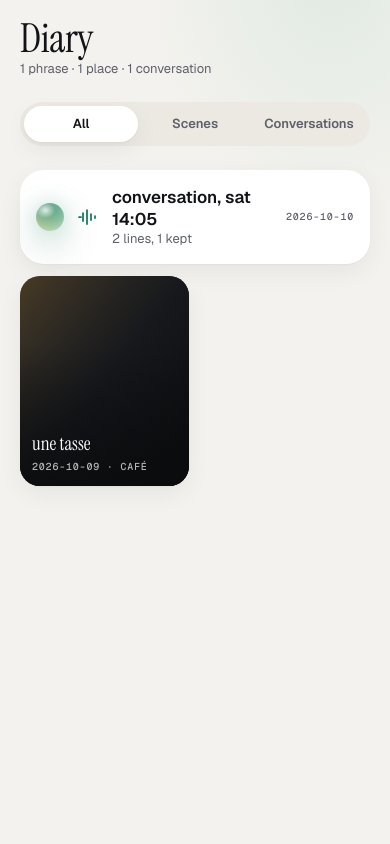
Test case: Diary › renders a conversation row interleaved by date and expands its lines
Expected: the text "Oui, à midi." is not shown
Click the button "conversation, sat 14:05 2 lines, 1 kept 2026-10-10".
click(50, 217)  # box [20,170,370,264]
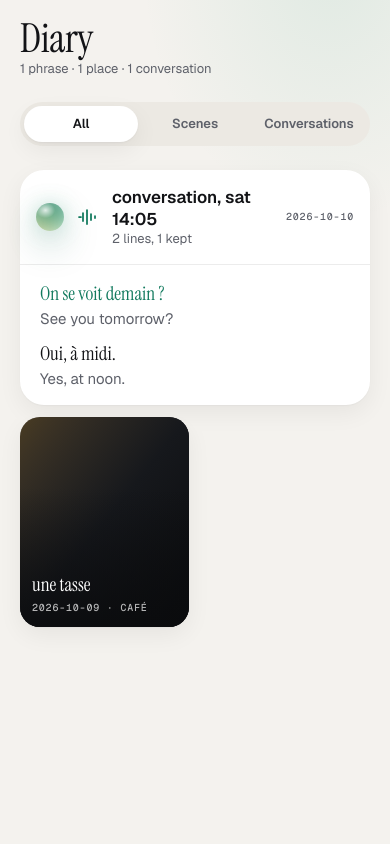
Expected: the text "Oui, à midi." is shown, [40,341,116,366]
Expected: the text "See you tomorrow?" is shown, [40,309,173,328]
